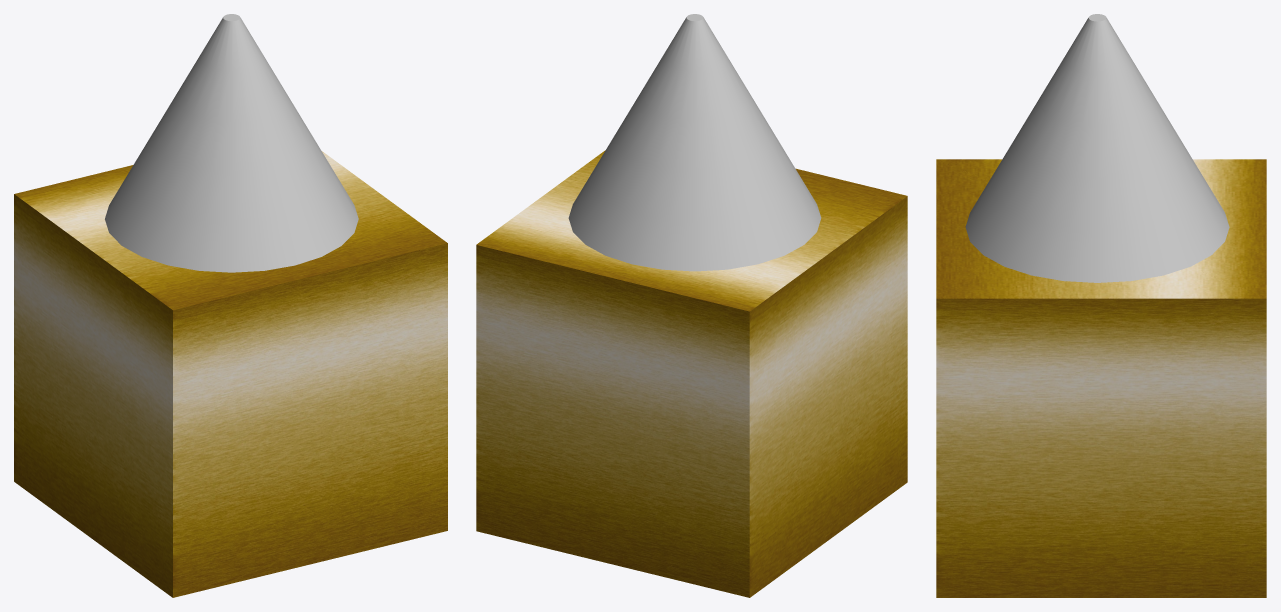
Rendered from MURO_NIVEL_3.fbx.
3 renders of one model, left to right at view 1: azimuth 30°, elevation 25°; view 2: azimuth 150°, elevation 25°; view 3: azimuth 270°, elevation 25°, orthographic. The views are drawn at different scales.
Parts seen in each view (by area): view 1: Box001, Cone001; view 2: Box001, Cone001; view 3: Box001, Cone001.
Part boxes in pixels (x1,y1,x2,y2): Box001: (14,151,447,597); Cone001: (105,14,358,272); Box001: (476,150,907,597); Cone001: (568,14,821,271); Box001: (936,159,1266,597); Cone001: (965,14,1229,282).
Size of the model in its own units: 1 by 1.7 by 1.
